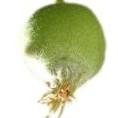fruit: (25, 3, 106, 116)
